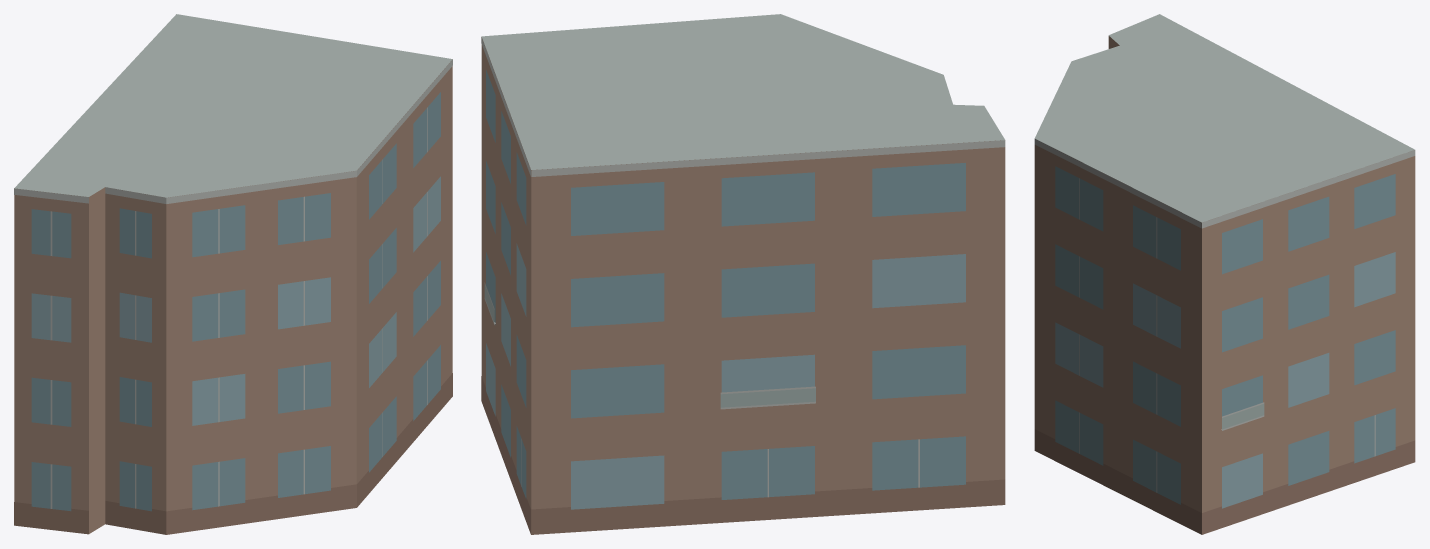
The model's file is survey-upis-32606060.glb.
3 views of the same model, side by side, from view 1: azimuth 30°, elevation 25°; view 2: azimuth 150°, elevation 25°; view 3: azimuth 270°, elevation 25° (orthographic). The views are drawn at different scales.
Parts seen in each view (by area): view 1: survey-upis-32606060.tmp; view 2: survey-upis-32606060.tmp; view 3: survey-upis-32606060.tmp.
Boxes of the visible parts, <box> form: survey-upis-32606060.tmp: <box>14,14,452,534</box>; survey-upis-32606060.tmp: <box>481,14,1005,534</box>; survey-upis-32606060.tmp: <box>1034,14,1415,534</box>.
Size of the model in its own units: 18.2 by 12.7 by 14.04.
